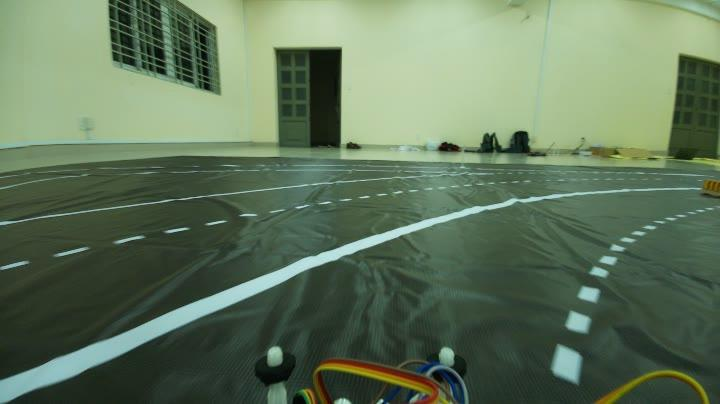roadblock: (697, 172, 720, 199)
